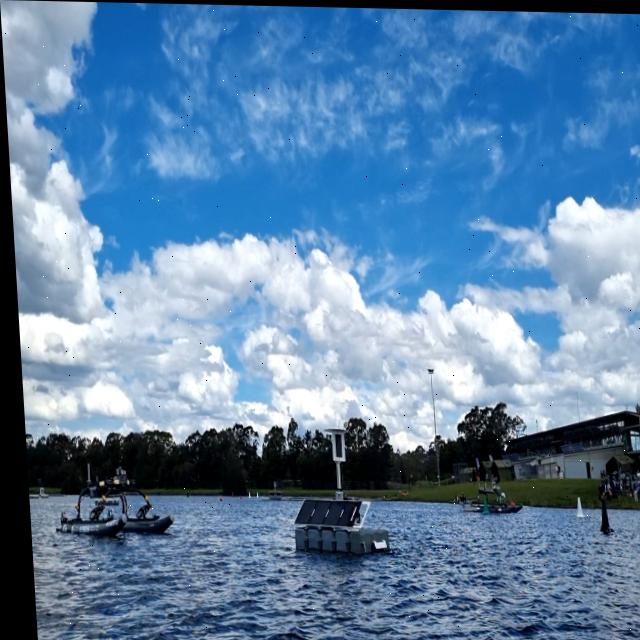led: (327, 429, 339, 460)
